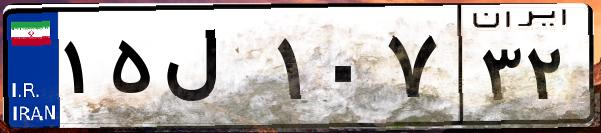0: (330, 28, 385, 110)
1: (270, 28, 330, 110), (57, 26, 110, 100)
2: (525, 38, 570, 115)
3: (475, 38, 525, 113)
5: (110, 28, 158, 98)
7: (385, 28, 445, 110)
ل: (158, 20, 270, 120)
